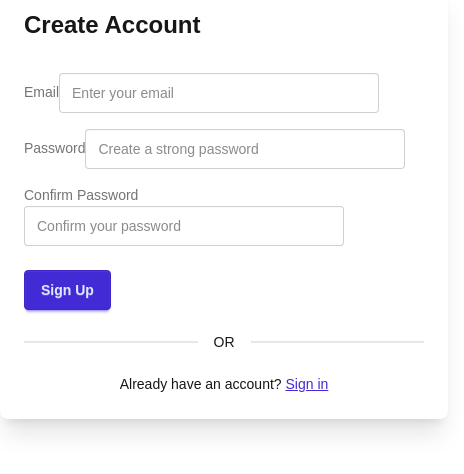
Test: SignUpForm › Form Validation › shows error when passwords do not match
The image size is (464, 474).
Type "test@example.com" into the field with placeholder "Enter your email" at coordinates (219, 93), box [59,73,379,113]
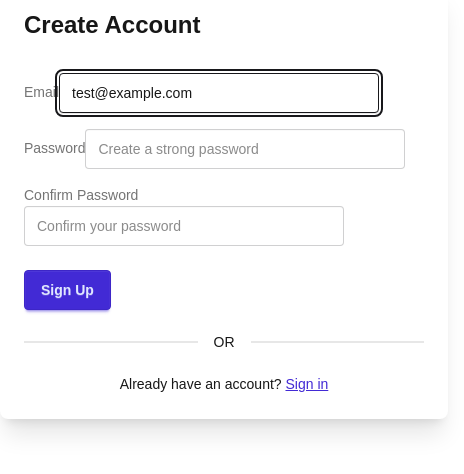
Type "Password123" into the password field with placeholder "Create a strong password" at coordinates (246, 149), box [86,129,406,169]
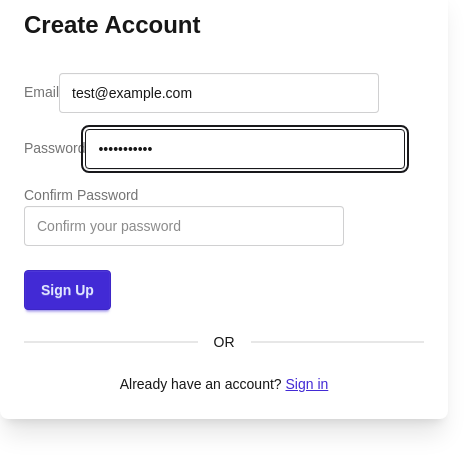
Type "Password456" into the password field with placeholder "Confirm your password" at coordinates (184, 226), box [24,206,344,246]
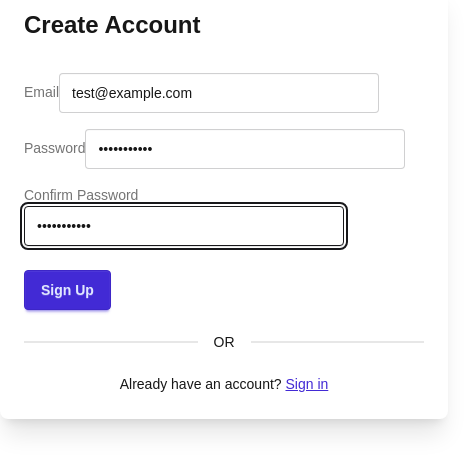
Click the button "Sign Up" at coordinates (67, 290), box [24,270,111,310]
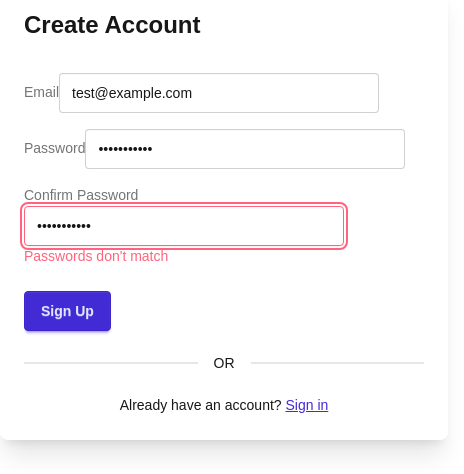
Check: the text "Passwords don't match" is shown, box [24,246,168,267]
